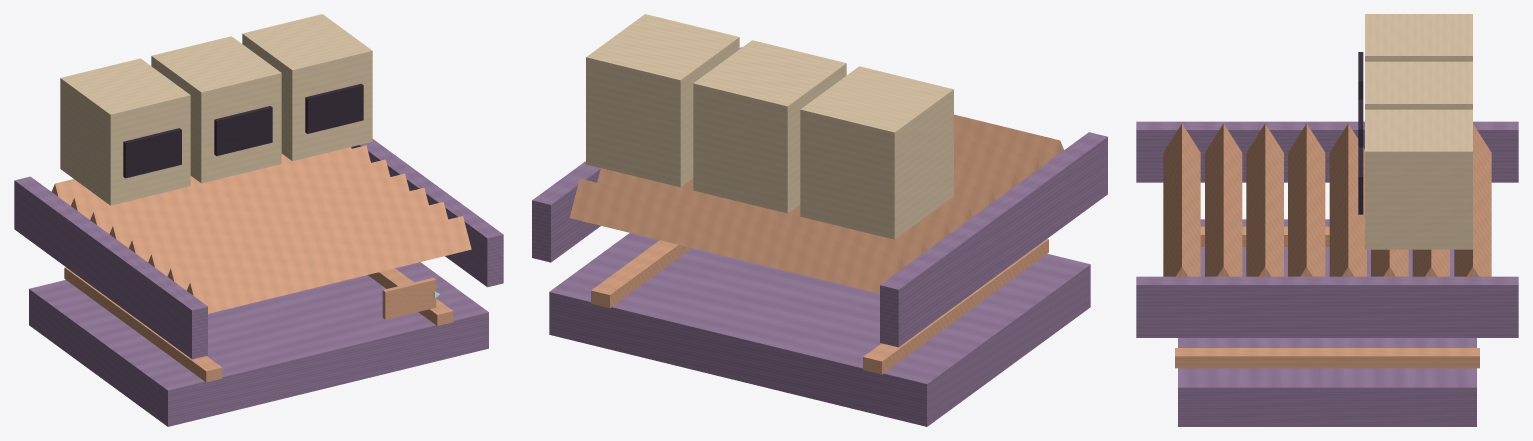
The model's file is atlas100-s084-a01.lod1.glb.
The picture shows the model from 3 angles, left to right: view 1: azimuth 30°, elevation 25°; view 2: azimuth 150°, elevation 25°; view 3: azimuth 270°, elevation 25°; orthographic projection. The views are drawn at different scales.
Visible parts, largest first — view 1: atlas100-s084-a01:part-000, atlas100-s084-a01:part-013, atlas100-s084-a01:part-011, atlas100-s084-a01:part-015, atlas100-s084-a01:part-017, atlas100-s084-a01:part-010, atlas100-s084-a01:part-009, atlas100-s084-a01:part-006, atlas100-s084-a01:part-008, atlas100-s084-a01:part-005, atlas100-s084-a01:part-007, atlas100-s084-a01:part-012 (+8 smaller); view 2: atlas100-s084-a01:part-000, atlas100-s084-a01:part-013, atlas100-s084-a01:part-017, atlas100-s084-a01:part-015, atlas100-s084-a01:part-011, atlas100-s084-a01:part-003, atlas100-s084-a01:part-004, atlas100-s084-a01:part-012, atlas100-s084-a01:part-001, atlas100-s084-a01:part-002, atlas100-s084-a01:part-010, atlas100-s084-a01:part-009 (+4 smaller); view 3: atlas100-s084-a01:part-012, atlas100-s084-a01:part-000, atlas100-s084-a01:part-017, atlas100-s084-a01:part-011, atlas100-s084-a01:part-002, atlas100-s084-a01:part-015, atlas100-s084-a01:part-009, atlas100-s084-a01:part-010, atlas100-s084-a01:part-007, atlas100-s084-a01:part-008, atlas100-s084-a01:part-013, atlas100-s084-a01:part-006 (+5 smaller).
Part boxes in pixels (x1,y1,x2,y2): atlas100-s084-a01:part-000: (29,262,488,426); atlas100-s084-a01:part-013: (60,58,190,205); atlas100-s084-a01:part-011: (14,176,207,359); atlas100-s084-a01:part-015: (151,36,281,183); atlas100-s084-a01:part-017: (242,14,372,161); atlas100-s084-a01:part-010: (186,216,471,313); atlas100-s084-a01:part-009: (167,202,448,290); atlas100-s084-a01:part-006: (109,159,390,248); atlas100-s084-a01:part-008: (148,188,428,276); atlas100-s084-a01:part-005: (90,145,370,233); atlas100-s084-a01:part-007: (129,173,409,261); atlas100-s084-a01:part-012: (351,139,503,287); atlas100-s084-a01:part-000: (549,233,1090,426); atlas100-s084-a01:part-013: (800,66,953,239); atlas100-s084-a01:part-017: (586,14,739,187); atlas100-s084-a01:part-015: (693,40,846,213); atlas100-s084-a01:part-011: (880,132,1107,347); atlas100-s084-a01:part-003: (569,178,904,293); atlas100-s084-a01:part-004: (597,168,927,266); atlas100-s084-a01:part-012: (532,47,741,262); atlas100-s084-a01:part-001: (863,239,1048,374); atlas100-s084-a01:part-002: (591,240,691,308); atlas100-s084-a01:part-010: (954,114,1063,166); atlas100-s084-a01:part-009: (954,136,1041,182); atlas100-s084-a01:part-012: (1136,276,1518,337); atlas100-s084-a01:part-000: (1178,219,1476,426); atlas100-s084-a01:part-017: (1365,109,1472,249); atlas100-s084-a01:part-011: (1136,121,1518,182); atlas100-s084-a01:part-002: (1175,348,1479,368); atlas100-s084-a01:part-015: (1365,61,1472,109); atlas100-s084-a01:part-009: (1205,123,1242,276); atlas100-s084-a01:part-010: (1163,124,1200,276); atlas100-s084-a01:part-007: (1288,123,1325,276); atlas100-s084-a01:part-008: (1246,123,1283,276); atlas100-s084-a01:part-013: (1365,14,1472,61); atlas100-s084-a01:part-006: (1329,123,1366,276).
Bounding box in the file's own units: 2.4 × 1.73 × 2.3.
Materials: 5 (5 with a texture image).
